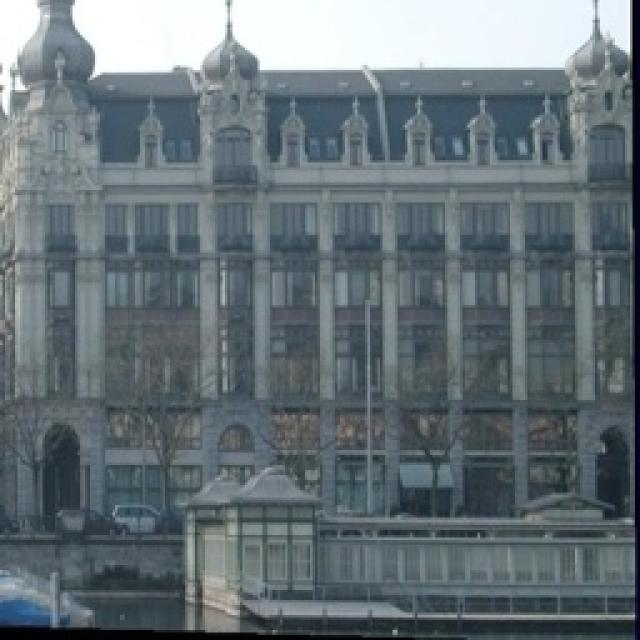building: (22, 30, 640, 598)
